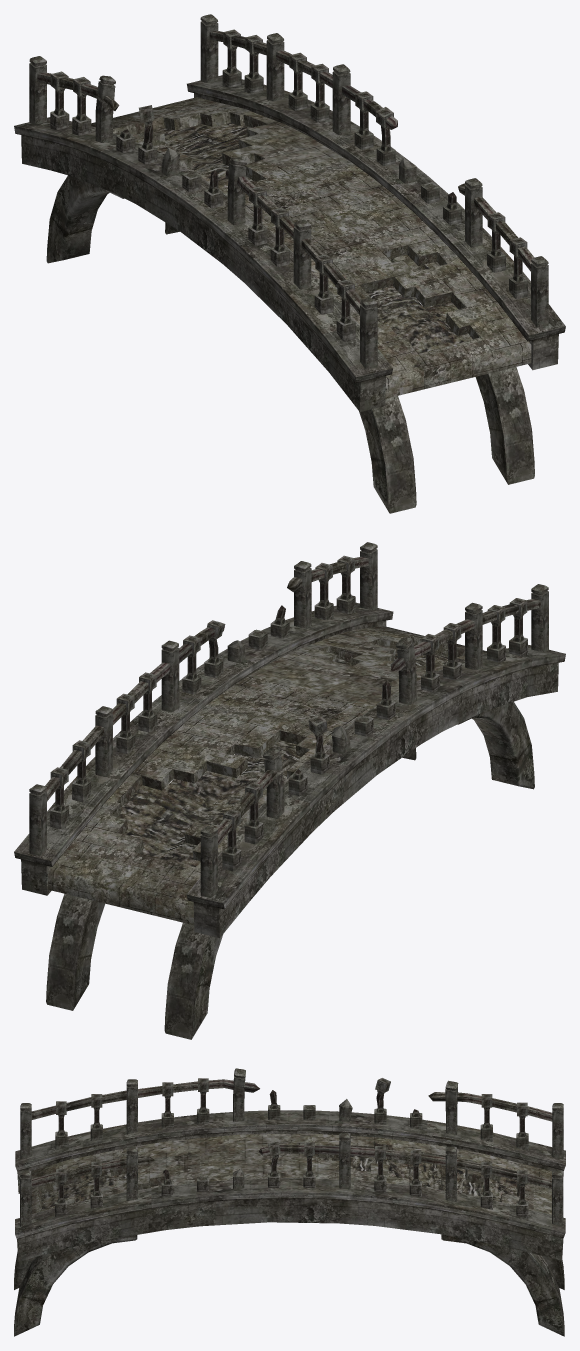
File: TW2_9_TARRACE_02_19-transformed.glb
The picture shows the model from 3 angles, top to bottom: view 1: azimuth 30°, elevation 25°; view 2: azimuth 150°, elevation 25°; view 3: azimuth 270°, elevation 25°; orthographic projection. The views are drawn at different scales.
Parts seen in each view (by area): view 1: default; view 2: default; view 3: default.
Boxes of the visible parts, bbox=[...] form: default: bbox=[14, 14, 565, 513]; default: bbox=[14, 542, 565, 1039]; default: bbox=[14, 1068, 565, 1336].
Size of the model in its own units: 4.28 by 5.04 by 12.13.
3 materials, 3 textured.
